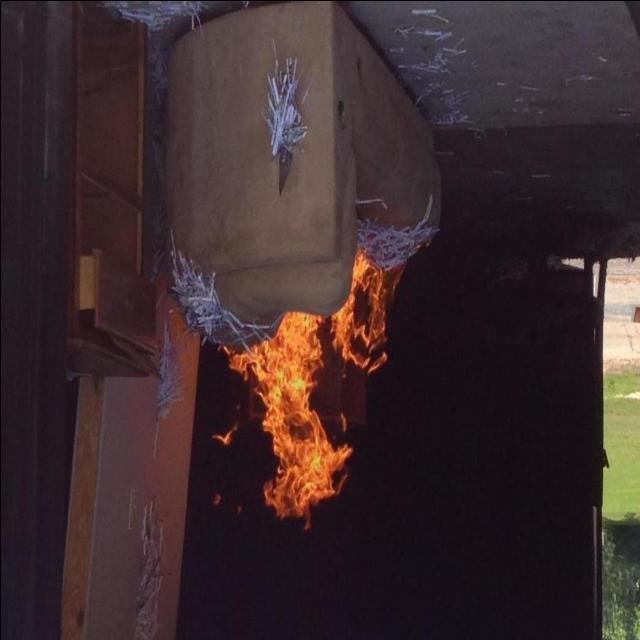Fire: (220, 306, 346, 533), (328, 246, 409, 384)
